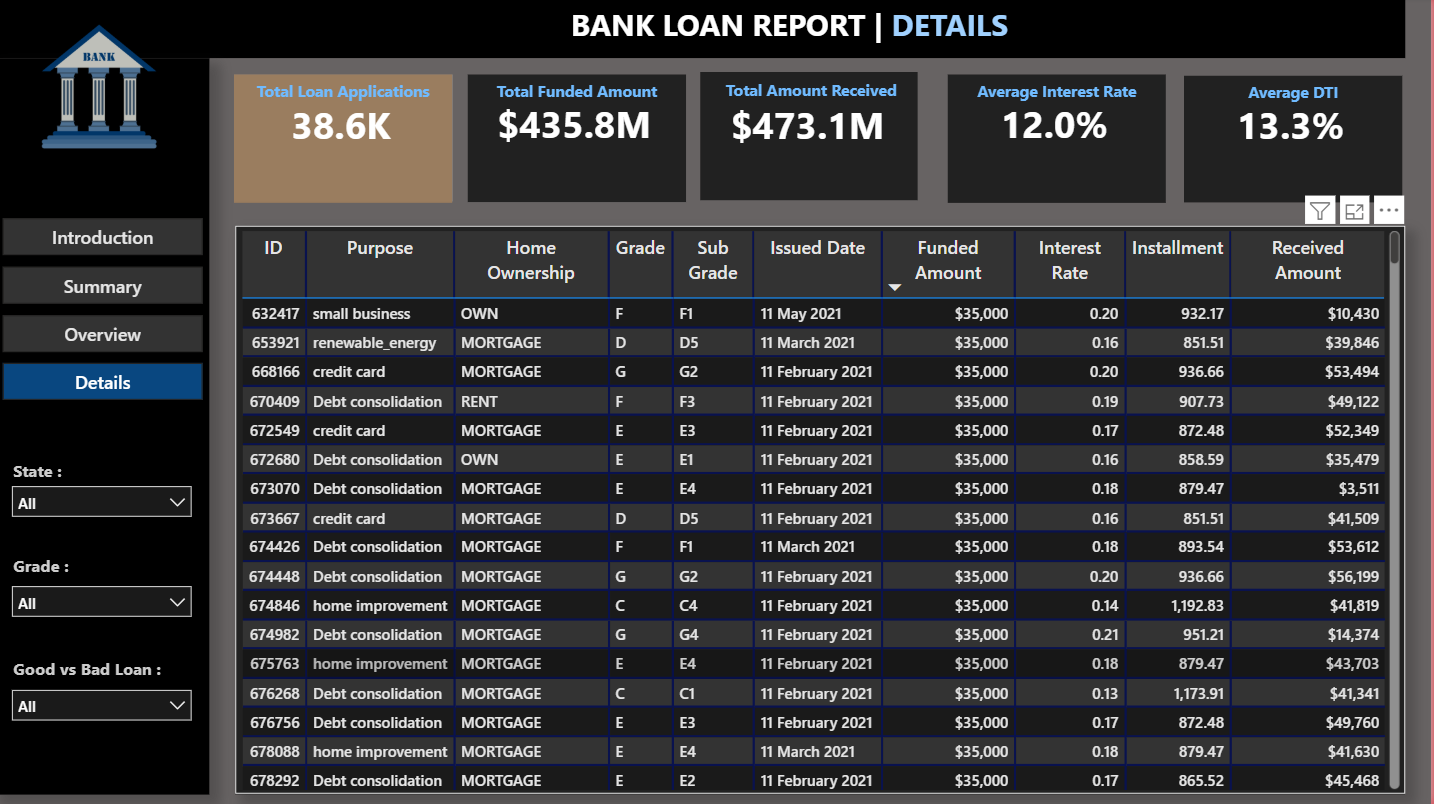

Layout of this report page (visuals, bound fields, positions):
{"tool":"powerbi","page":{"name":"Details","canvas":[1280,720],"ordinal":3},"visuals":[{"type":"shape","box":[629.2,66.4,193.8,114.2],"z":0,"group":"g3"},{"type":"shape","box":[214.3,68.6,194.3,114.3],"z":0,"group":"g1"},{"type":"shape","box":[421.4,68.6,194.5,114],"z":0,"group":"g2"},{"type":"shape","box":[848.8,68.6,194.2,114.3],"z":0,"group":"g4"},{"type":"shape","box":[1059.3,69.8,194.5,113.1],"z":0,"group":"g5"},{"type":"shape","box":[214.7,203.7,1041.9,506.5],"z":0},{"type":"shape","box":[0,0,1257,54.7],"z":1000},{"type":"card","fields":{"Values":["table_measures.total_loan_appl"]},"box":[247.2,83.2,124.3,61.3],"z":1000,"group":"g1"},{"type":"card","fields":{"Values":["table_measures.total_funded_amt"]},"box":[433.2,83.2,165.9,58.4],"z":1000,"group":"g2"},{"type":"card","fields":{"Values":["table_measures.avg_interest_rate"]},"box":[860.6,83.2,165.6,58.6],"z":1000,"group":"g4"},{"type":"card","fields":{"Values":["table_measures.avg_DTI"]},"box":[1071.1,84.3,165.9,57.9],"z":1000,"group":"g5"},{"type":"card","fields":{"Values":["table_measures.total_received_amt"]},"box":[643.2,85.3,163.1,55.8],"z":1000,"group":"g3"},{"type":"shape","box":[0,54.7,191.9,655.8],"z":2000},{"type":"textbox","box":[632.2,67,191,41.6],"z":2000,"group":"g3"},{"type":"textbox","box":[214.3,68.6,194.3,39],"z":2000,"group":"g1"},{"type":"textbox","box":[421.4,68.6,194.5,38.9],"z":2000,"group":"g2"},{"type":"textbox","box":[848.8,68.6,194.2,39],"z":2000,"group":"g4"},{"type":"textbox","box":[1059.3,69.8,194.5,38.6],"z":2000,"group":"g5"},{"type":"textbox","box":[12.4,406,119.7,38.5],"z":3000},{"type":"textbox","box":[509.2,1.4,447.3,49.5],"z":4000},{"type":"group","id":"g1","title":"Group 1","box":[214.3,68.6,194.3,114.3],"z":5000},{"type":"group","id":"g2","title":"Group 1","box":[421.4,68.6,194.5,114],"z":6000},{"type":"group","id":"g3","title":"Group 1","box":[629.2,66.4,194,114.2],"z":7000},{"type":"group","id":"g4","title":"Group 1","box":[848.8,68.6,194.2,114.3],"z":8000},{"type":"group","id":"g5","title":"Group 1","box":[1059.3,69.8,194.5,113.1],"z":9000},{"type":"slicer","fields":{"Values":["financial_loan.address_state"]},"box":[5.5,425.3,180.3,50.9],"z":10000},{"type":"slicer","fields":{"Values":["financial_loan.grade"]},"box":[5.5,514.8,180.3,50.9],"z":11000},{"type":"textbox","box":[12.4,491.4,119.7,38.5],"z":12000},{"type":"slicer","fields":{"Values":["financial_loan.Good vs Band Loan"]},"box":[5.5,607,180.3,50.9],"z":13000},{"type":"textbox","box":[12.4,583.6,163.8,38.5],"z":14000},{"type":"tableEx","fields":{"Values":["financial_loan.id","financial_loan.purpose","financial_loan.home_ownership","financial_loan.grade","financial_loan.sub_grade","financial_loan.issue_date","table_measures.total_funded_amt","Sum(financial_loan.int_rate)","Sum(financial_loan.installment)","table_measures.total_received_amt"]},"box":[214.7,203.7,1041.9,506.5],"z":15000},{"type":"pageNavigator","box":[8.3,196.8,178.9,163.8],"z":16000},{"type":"image","box":[0,1.4,187.2,156.9],"z":17000}]}

Visuals, with their boxes on the page's 1280x720 design canvas (x1, y1, x2, y2). These are canvas units, not pixel positions in the 1434x804 screenshot, which may show the page scaled, cropped or inside an application window:
shape: crop(629, 66, 823, 181)
shape: crop(214, 69, 409, 183)
shape: crop(421, 69, 616, 183)
shape: crop(849, 69, 1043, 183)
shape: crop(1059, 70, 1254, 183)
shape: crop(215, 204, 1257, 710)
shape: crop(0, 0, 1257, 55)
card - table_measures.total_loan_appl: crop(247, 83, 372, 144)
card - table_measures.total_funded_amt: crop(433, 83, 599, 142)
card - table_measures.avg_interest_rate: crop(861, 83, 1026, 142)
card - table_measures.avg_DTI: crop(1071, 84, 1237, 142)
card - table_measures.total_received_amt: crop(643, 85, 806, 141)
shape: crop(0, 55, 192, 710)
textbox: crop(632, 67, 823, 109)
textbox: crop(214, 69, 409, 108)
textbox: crop(421, 69, 616, 108)
textbox: crop(849, 69, 1043, 108)
textbox: crop(1059, 70, 1254, 108)
textbox: crop(12, 406, 132, 444)
textbox: crop(509, 1, 956, 51)
"Group 1" group: crop(214, 69, 409, 183)
"Group 1" group: crop(421, 69, 616, 183)
"Group 1" group: crop(629, 66, 823, 181)
"Group 1" group: crop(849, 69, 1043, 183)
"Group 1" group: crop(1059, 70, 1254, 183)
slicer - financial_loan.address_state: crop(6, 425, 186, 476)
slicer - financial_loan.grade: crop(6, 515, 186, 566)
textbox: crop(12, 491, 132, 530)
slicer - financial_loan.Good vs Band Loan: crop(6, 607, 186, 658)
textbox: crop(12, 584, 176, 622)
tableEx - financial_loan.id x financial_loan.purpose: crop(215, 204, 1257, 710)
pageNavigator: crop(8, 197, 187, 361)
image: crop(0, 1, 187, 158)
